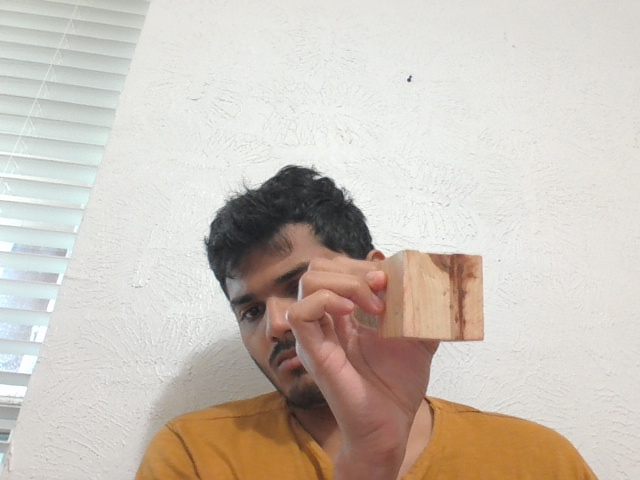NormalBlock: (383, 249, 487, 341)
